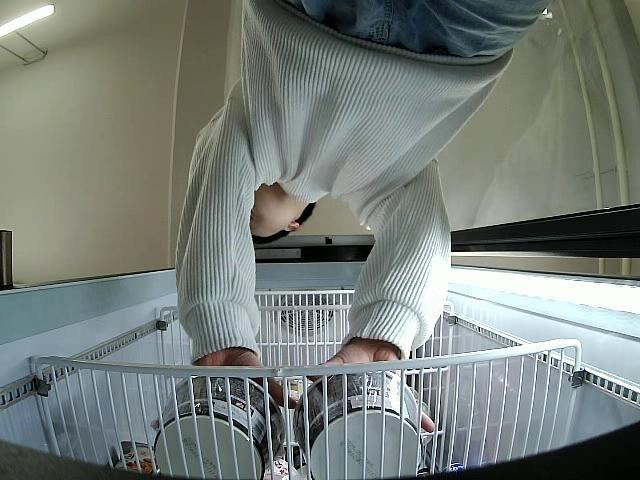07_buldak_L: (294, 363, 425, 480), (153, 377, 284, 480)
